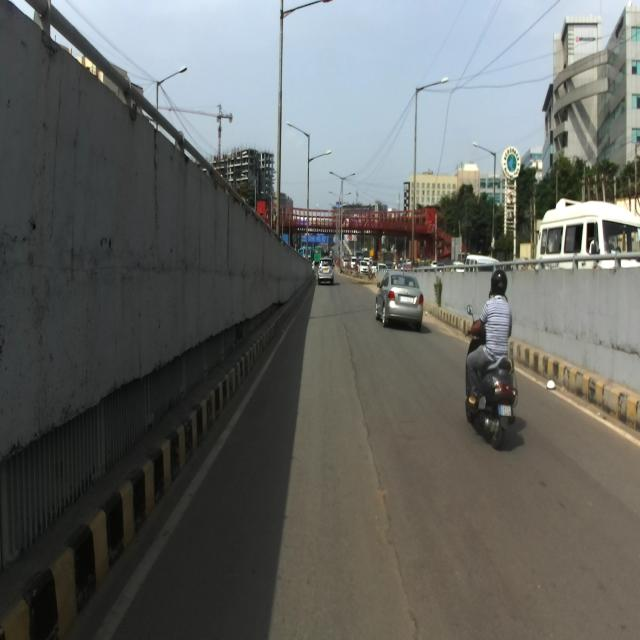car ahead at: (480, 359, 518, 449), (374, 269, 424, 326)
